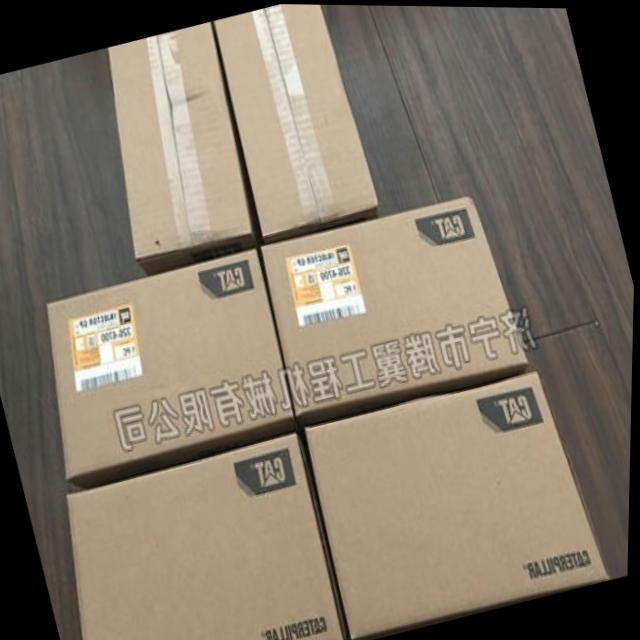box: (304, 370, 611, 636), (262, 195, 530, 440), (48, 245, 301, 491), (68, 430, 351, 640), (108, 21, 266, 277), (214, 3, 380, 244)
